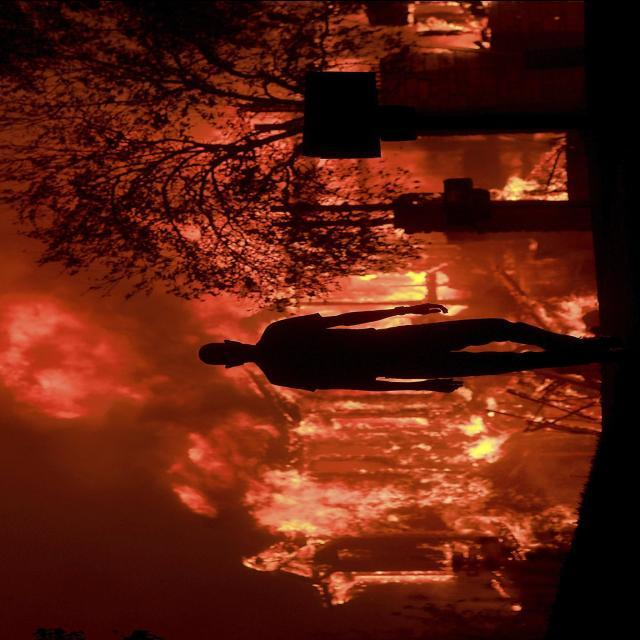Fire: (14, 136, 596, 604)
